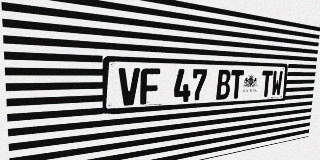4: (174, 69, 191, 102)
7: (191, 69, 207, 101)
B: (216, 69, 231, 100)
F: (140, 68, 160, 105)
T: (230, 70, 244, 99), (260, 70, 273, 97)
V: (118, 68, 140, 106)
W: (271, 71, 283, 96)
